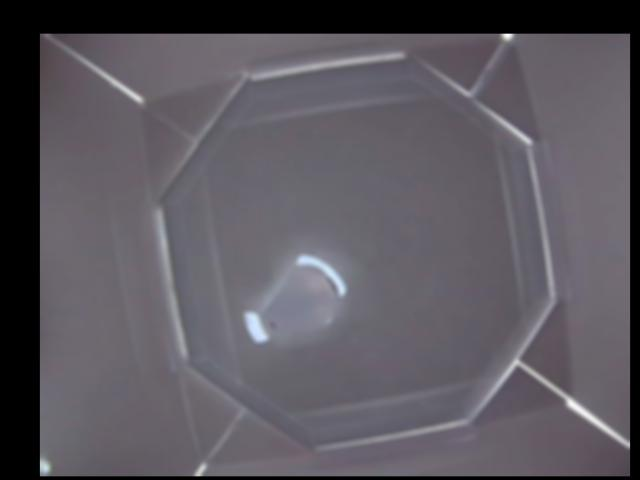China: (241, 254, 343, 344)
